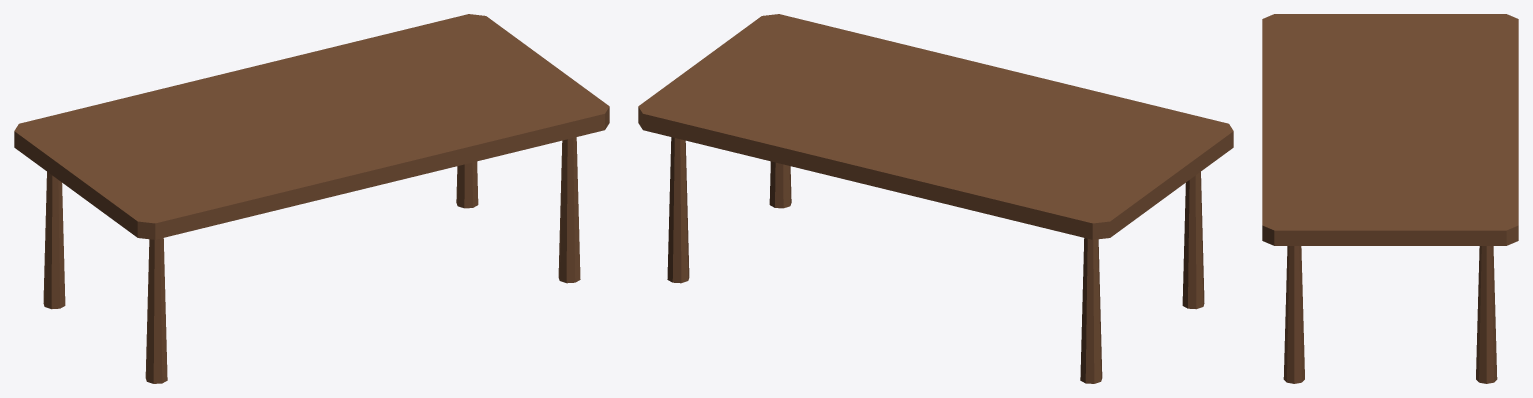
The model's file is SM_LPI_Table_Coffee_02.fbx.
3 renders of one model, left to right at view 1: azimuth 30°, elevation 25°; view 2: azimuth 150°, elevation 25°; view 3: azimuth 270°, elevation 25°, orthographic. The views are drawn at different scales.
Parts seen in each view (by area): view 1: SM_LPI_Table_Coffee_02; view 2: SM_LPI_Table_Coffee_02; view 3: SM_LPI_Table_Coffee_02.
Part boxes in pixels (left/top/right/bottom): SM_LPI_Table_Coffee_02: left=14, top=14, right=609, bottom=383; SM_LPI_Table_Coffee_02: left=638, top=14, right=1233, bottom=383; SM_LPI_Table_Coffee_02: left=1262, top=14, right=1518, bottom=383.
Bounding box in the file's own units: 1.2 × 0.42 × 0.6.
